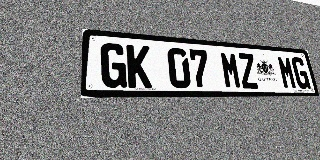0: (167, 47, 191, 88)
7: (188, 49, 212, 88)
G: (101, 42, 127, 88), (291, 57, 311, 89)
K: (126, 44, 152, 88)
M: (219, 51, 242, 89), (277, 56, 298, 89)
Z: (237, 53, 259, 89)
